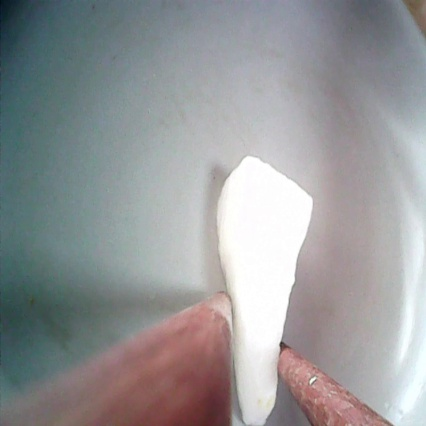white_chinese-yam: (209, 156, 316, 426)
